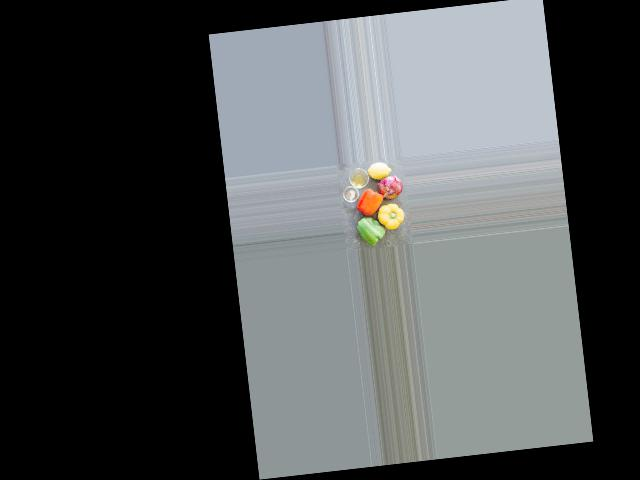bell_pepper: (354, 187, 385, 216)
